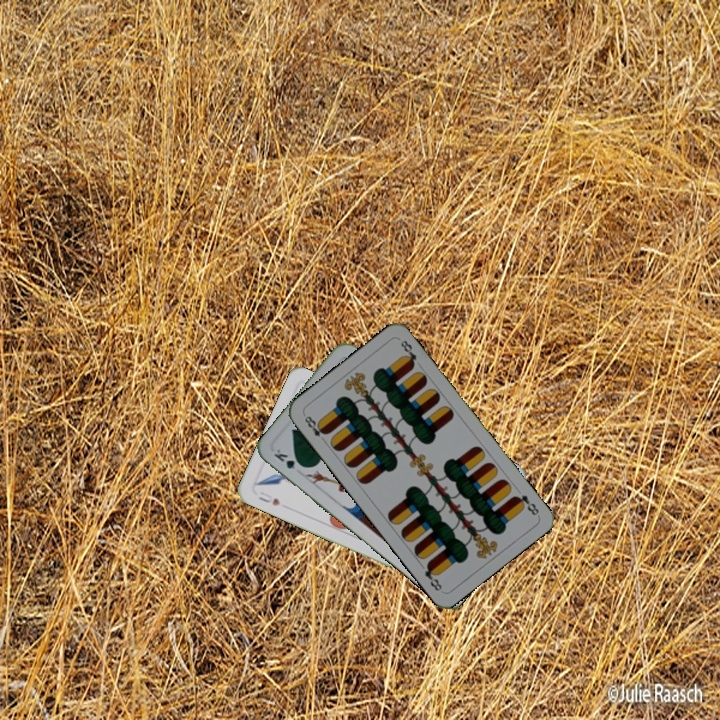E8: (300, 410, 330, 445), (510, 490, 542, 518)
GK: (270, 445, 307, 473)
HU: (255, 487, 283, 509)
